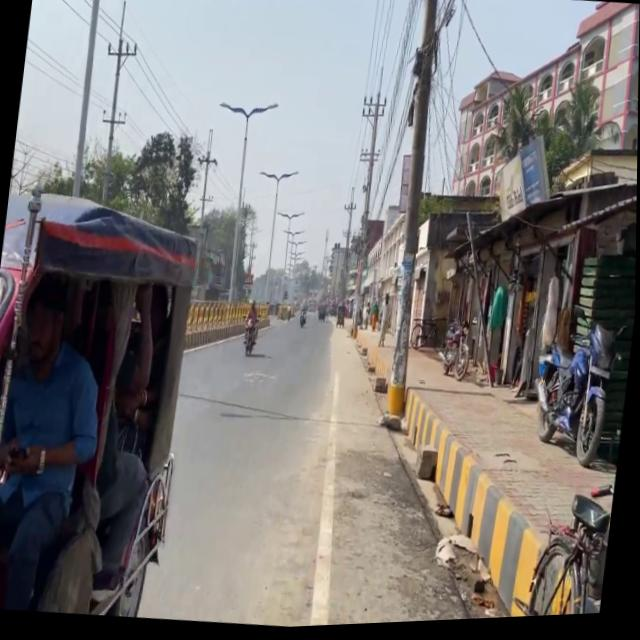Construction-barrier: (295, 315, 366, 629)
Fallen-tree: (525, 304, 630, 476), (438, 320, 476, 386), (298, 310, 308, 330), (318, 306, 328, 325)
Garbage-bin: (0, 266, 117, 616), (242, 302, 262, 348)
Light-pole: (374, 0, 454, 422), (68, 0, 105, 197)
Pothole: (317, 314, 632, 629)
Traffic-cone: (0, 179, 207, 623)
